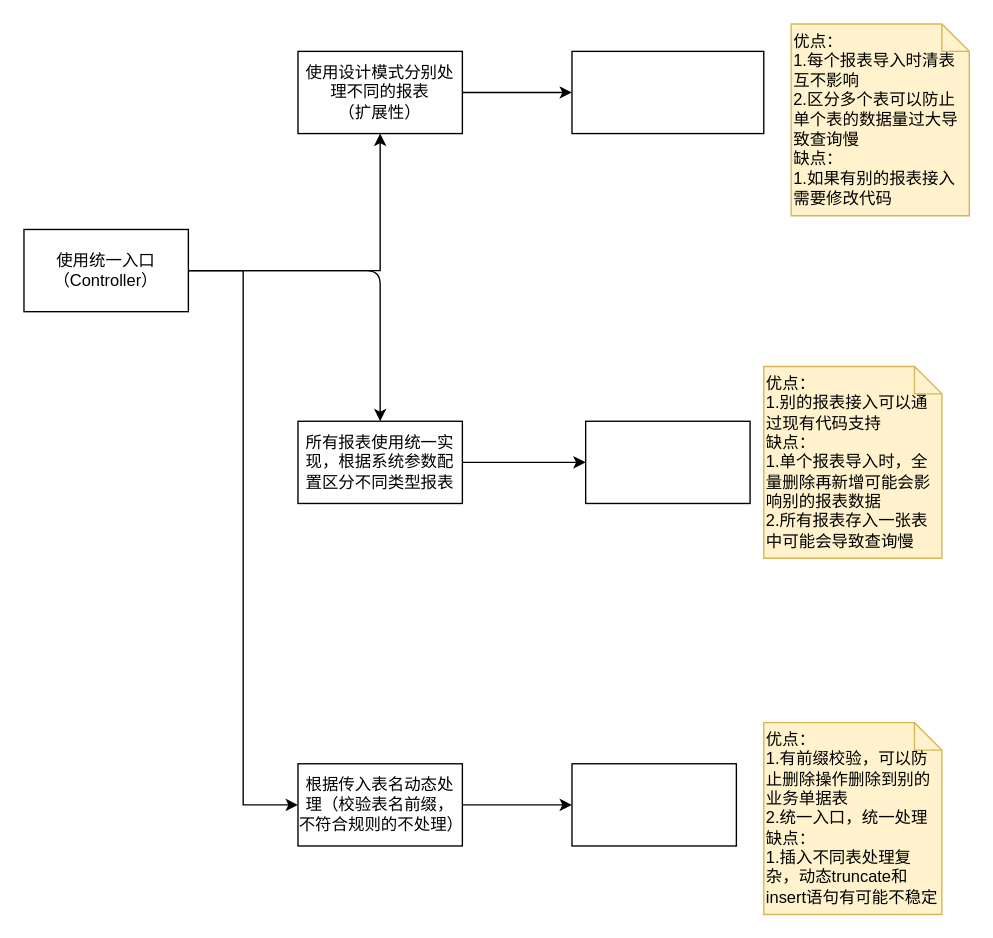
Image size: 993x938. Some labels were removed from this diagram. Each missing label, with the box of its shape:
使用一张表处理不同的报表: (584, 420, 750, 503)
动态sql处理对应表（根据表名先删后插 ）: (571, 762, 736, 846)
区分不同的表 （一个报表对应一张表）: (571, 50, 764, 134)
